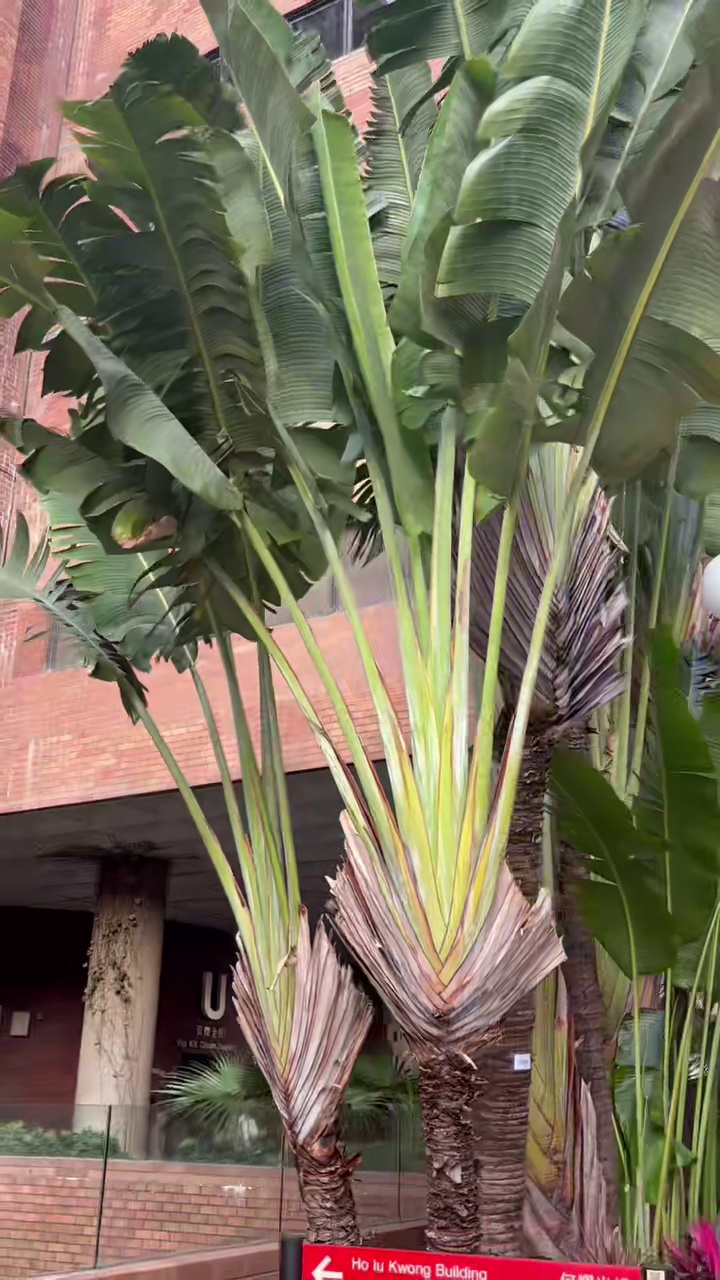Travellers-tree: (0, 0, 716, 1251)
